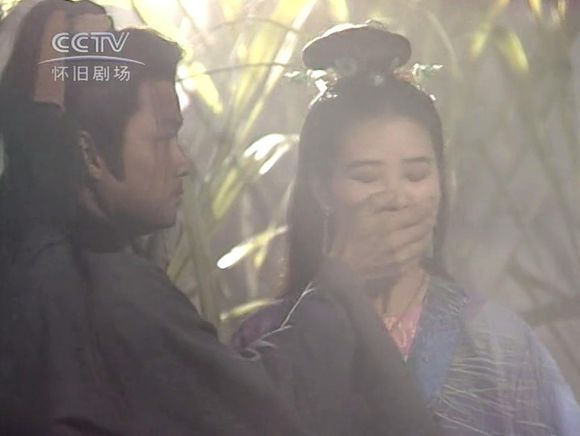face: (328, 122, 441, 273), (92, 83, 195, 227)
